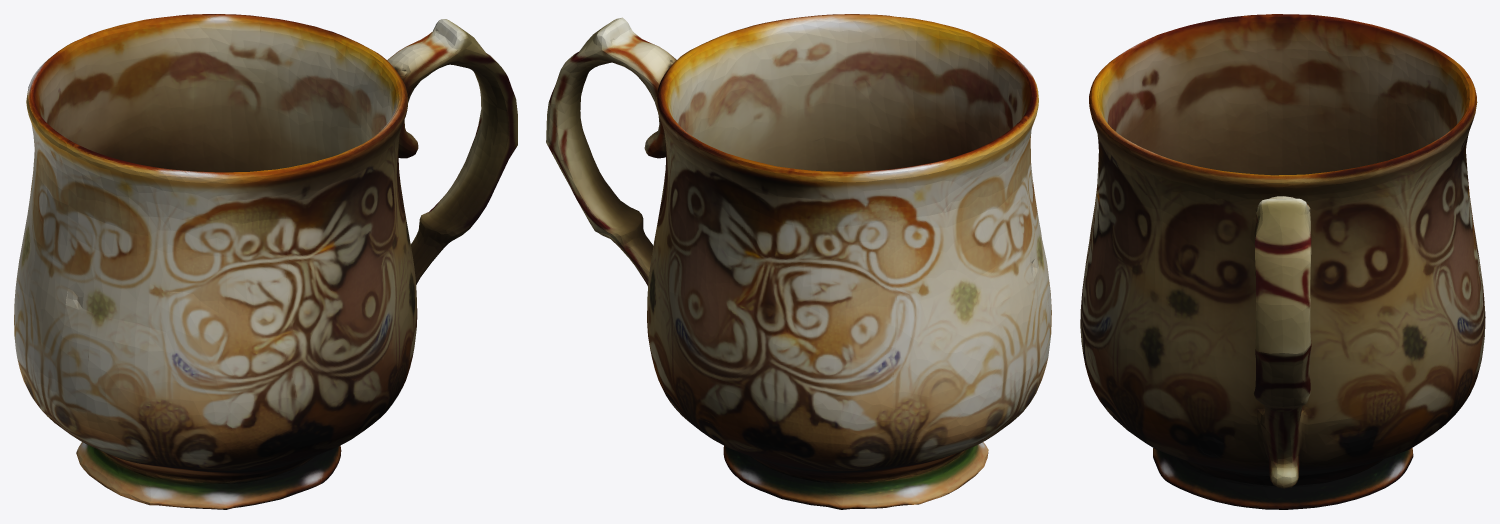
Rendered from porcelain-collectible-mug-used-rustic-worn.jpeg.glb.
The picture shows the model from 3 angles, left to right: view 1: azimuth 30°, elevation 25°; view 2: azimuth 150°, elevation 25°; view 3: azimuth 270°, elevation 25°; orthographic projection.
Parts seen in each view (by area): view 1: world; view 2: world; view 3: world.
Boxes of the visible parts, x1,y1,x2,y2 form: world: (14, 14, 517, 509); world: (546, 14, 1051, 509); world: (1080, 14, 1485, 509).
Size of the model in its own units: 0.9985 by 0.7575 by 0.7417.
1 material, 1 textured.
